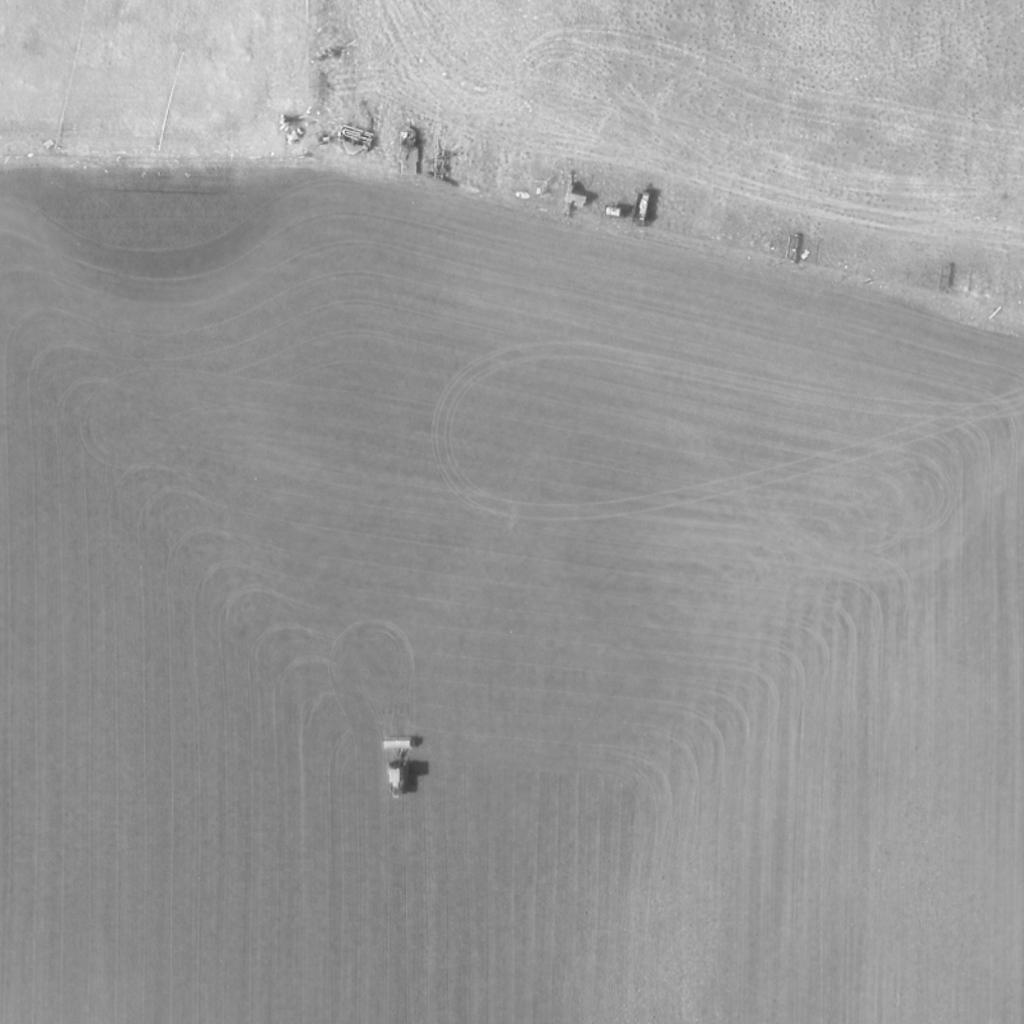vehicle: (384, 763, 414, 801)
